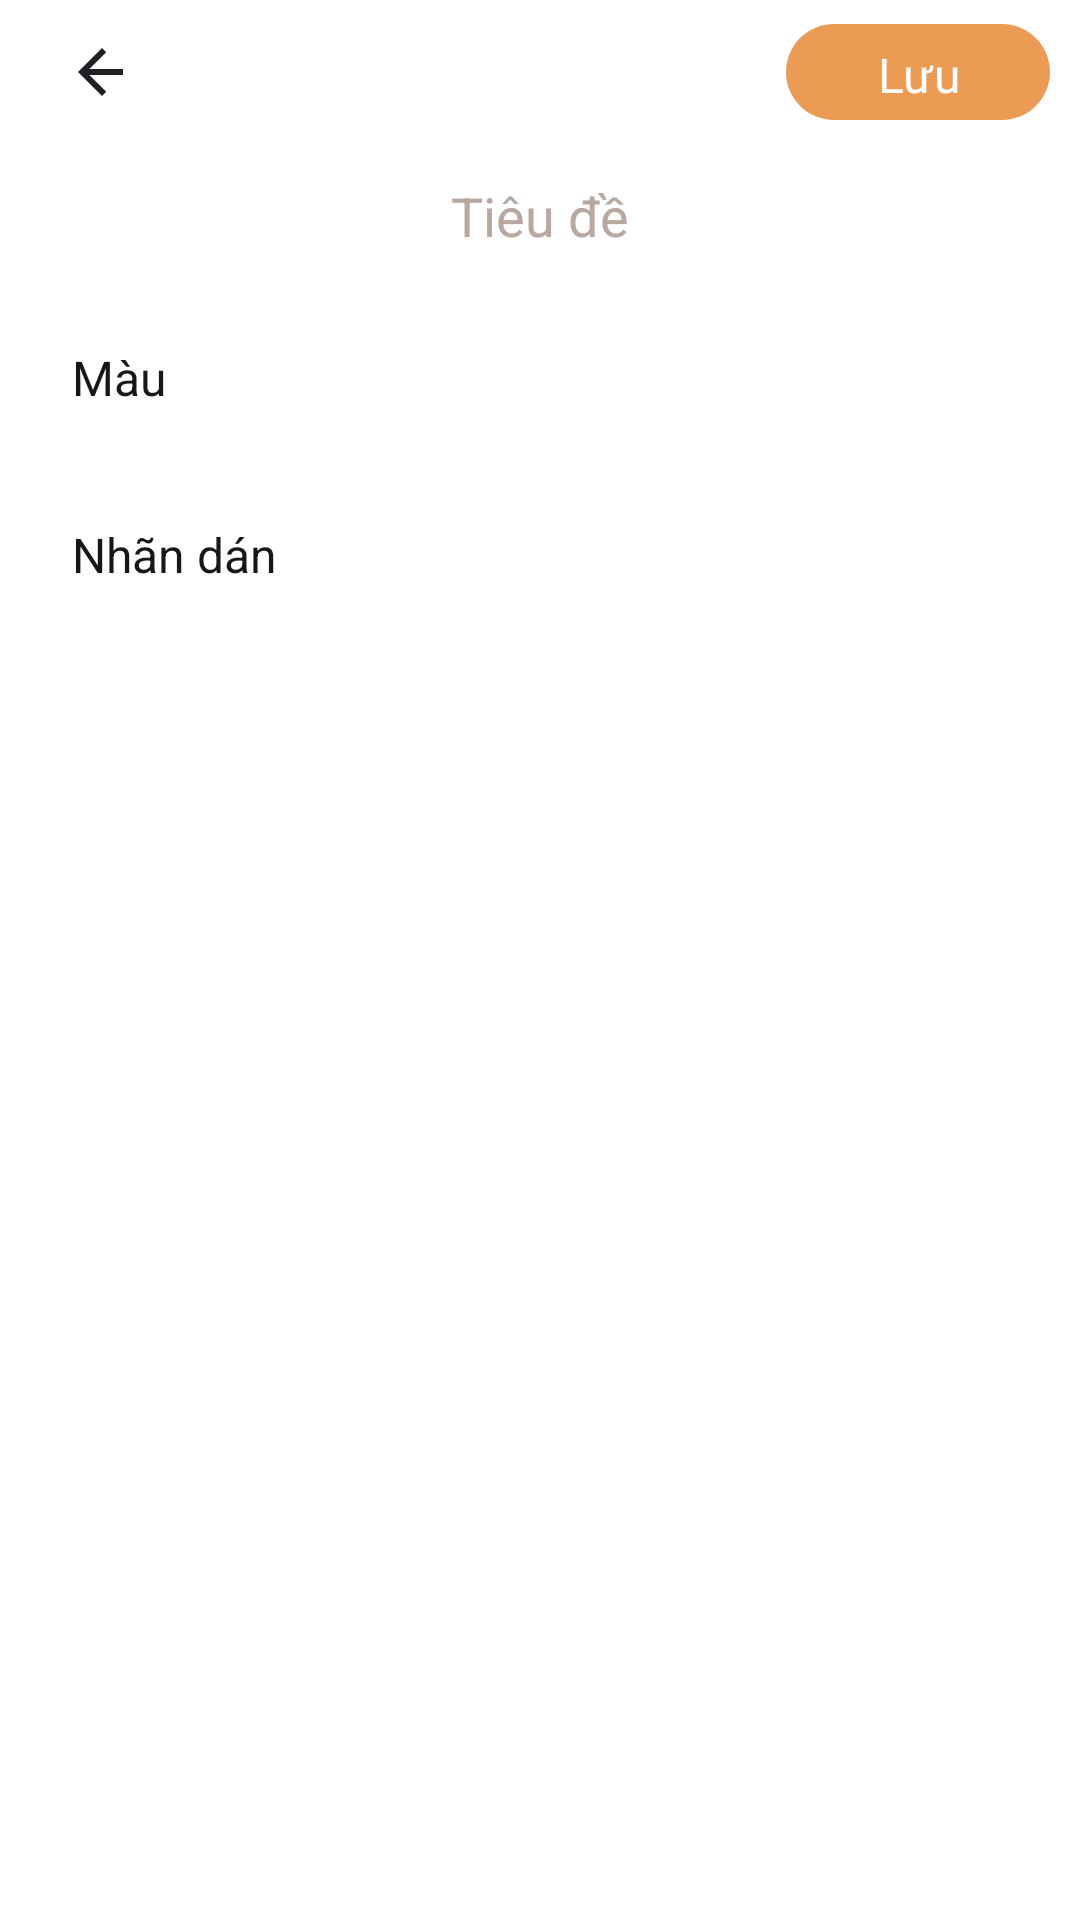

Screen size 1080 × 1920. Icon name, then its center in pixels as (x=x, y=y):
back: (x=100, y=72)
